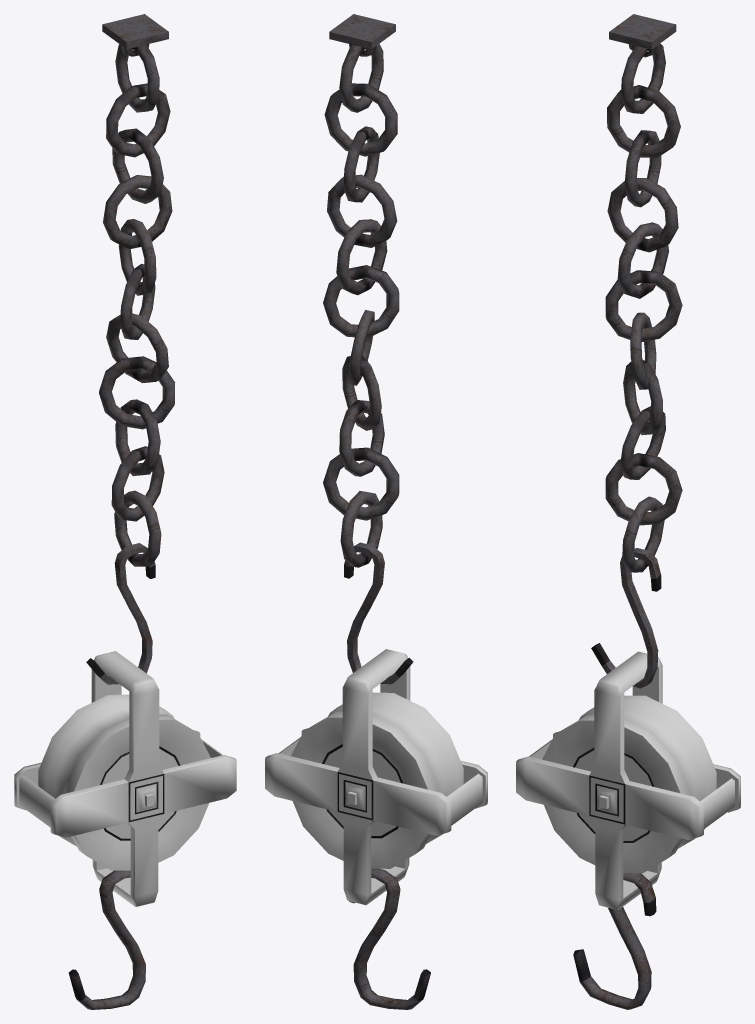
Rendered from Castle Wall Ring Chain 12.fbx.
3 views of the same model, side by side, from view 1: azimuth 30°, elevation 25°; view 2: azimuth 150°, elevation 25°; view 3: azimuth 330°, elevation 25° (orthographic).
Visible parts, largest first — view 1: Cube; view 2: Cube; view 3: Cube.
Boxes of the visible parts, box(x1,y1,x2,y2) form: Cube: box(14, 14, 236, 1009); Cube: box(265, 14, 487, 1009); Cube: box(516, 14, 740, 1009).
Size of the model in its own units: 107 by 541 by 50.64.
